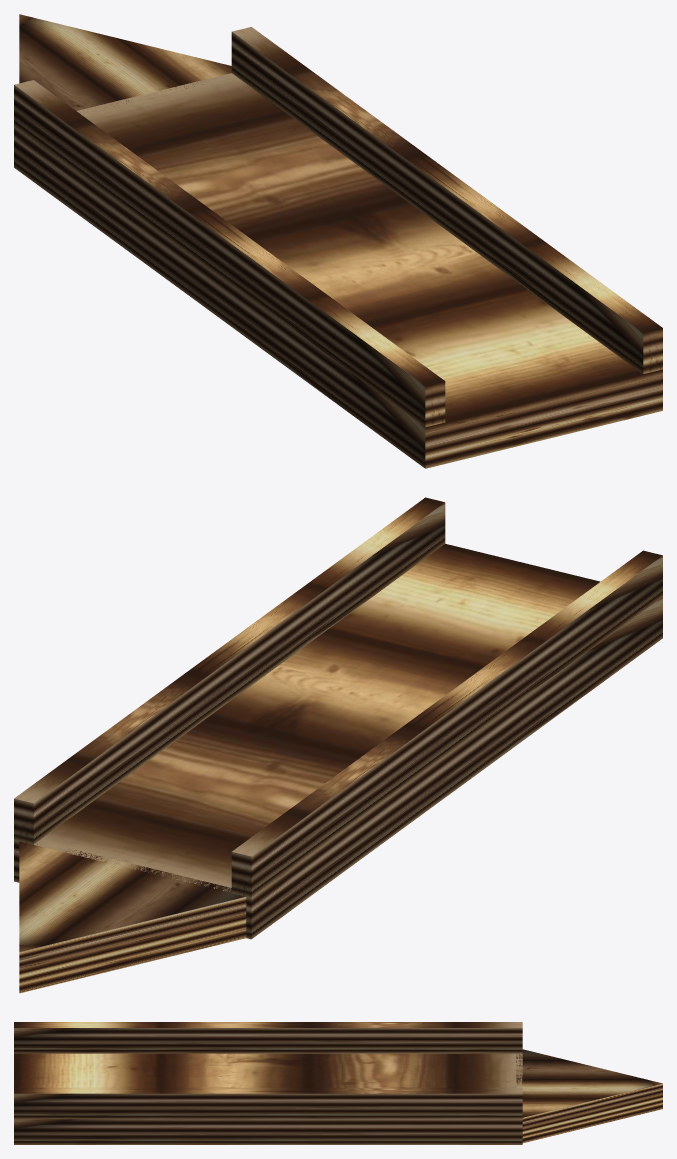
The model's file is A - Start.obj.
3 views of the same model, one above another, from view 1: azimuth 30°, elevation 25°; view 2: azimuth 150°, elevation 25°; view 3: azimuth 270°, elevation 25° (orthographic). The views are drawn at different scales.
Visible parts, largest first — view 1: polySurface11; view 2: polySurface11; view 3: polySurface11.
Boxes of the visible parts, x1=… form: polySurface11: x1=14, y1=14, x2=662, y2=468; polySurface11: x1=14, y1=497, x2=662, y2=993; polySurface11: x1=14, y1=1022, x2=662, y2=1144.
Bounding box in the file's own units: 420 × 140 × 1607.
